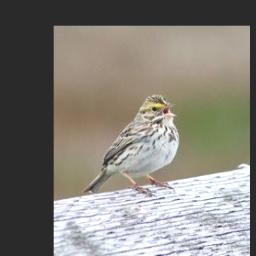Sparrow: (84, 90, 181, 199)
